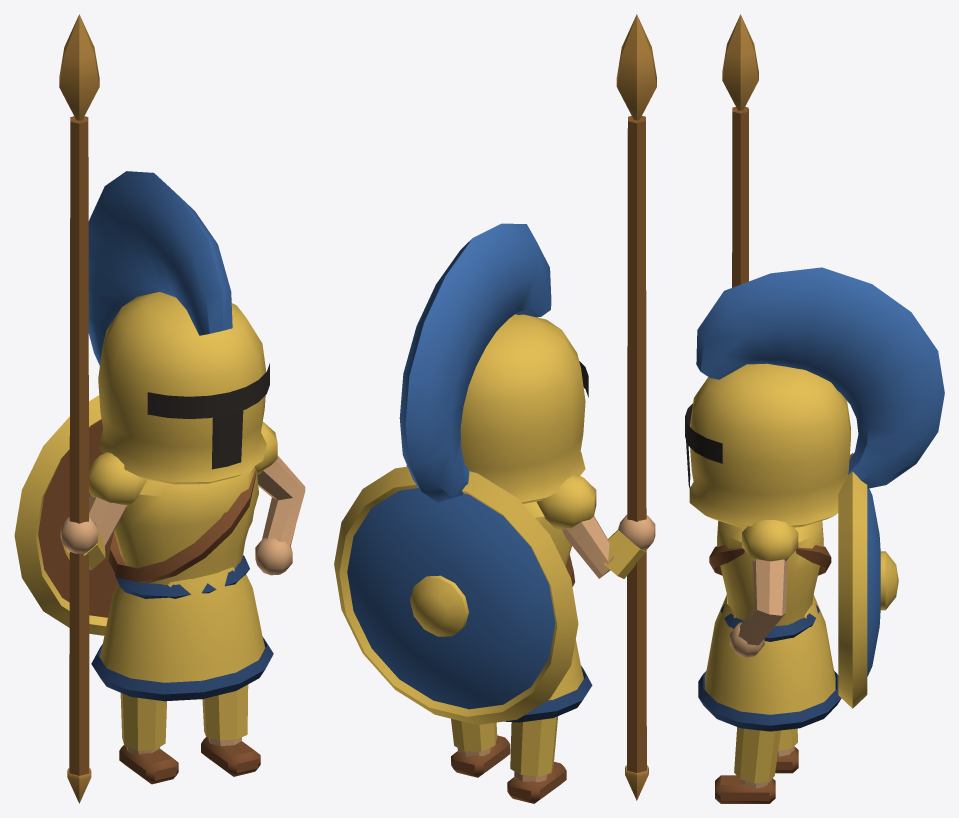
File: glaucus.glb
3 views of the same model, side by side, from view 1: azimuth 30°, elevation 25°; view 2: azimuth 150°, elevation 25°; view 3: azimuth 270°, elevation 25° (orthographic). The views are drawn at different scales.
Parts seen in each view (by area): view 1: glaucus; view 2: glaucus; view 3: glaucus.
Boxes of the visible parts, x1,y1,x2,y2 form: glaucus: (14, 14, 305, 803); glaucus: (334, 14, 656, 803); glaucus: (685, 14, 944, 803).
Size of the model in its own units: 0.4337 by 1.25 by 0.4099.
